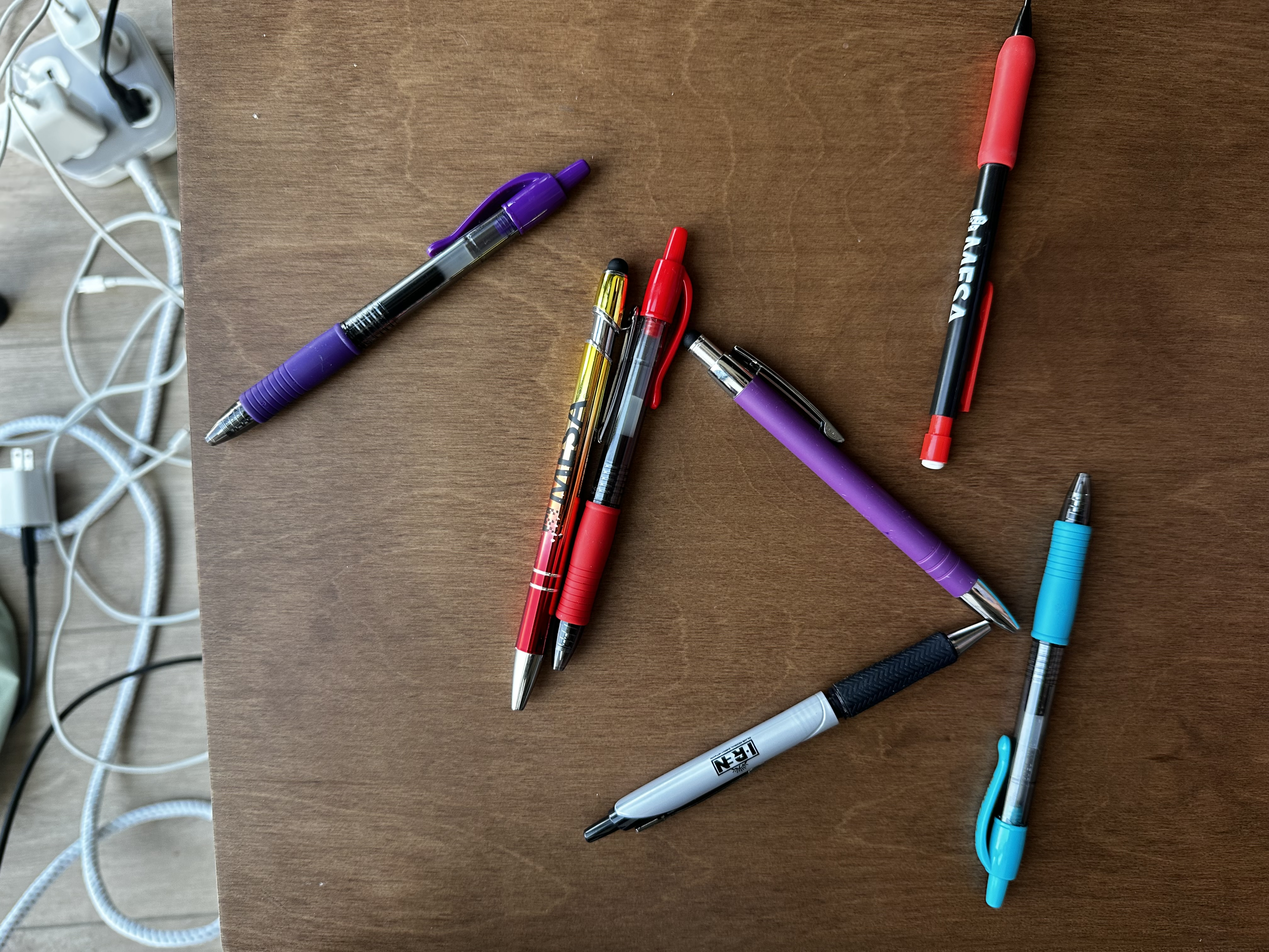Blue Pen: (976, 471, 1092, 906)
Cypres Pen Purple: (693, 336, 1024, 629)
MESA Multicolored pen: (511, 262, 623, 701)
Purple Pen: (203, 154, 581, 437)
Red Mechanical Pencil: (918, 6, 1035, 475)
Red Pen: (549, 226, 684, 676)
Silver Pen: (583, 614, 990, 847)
